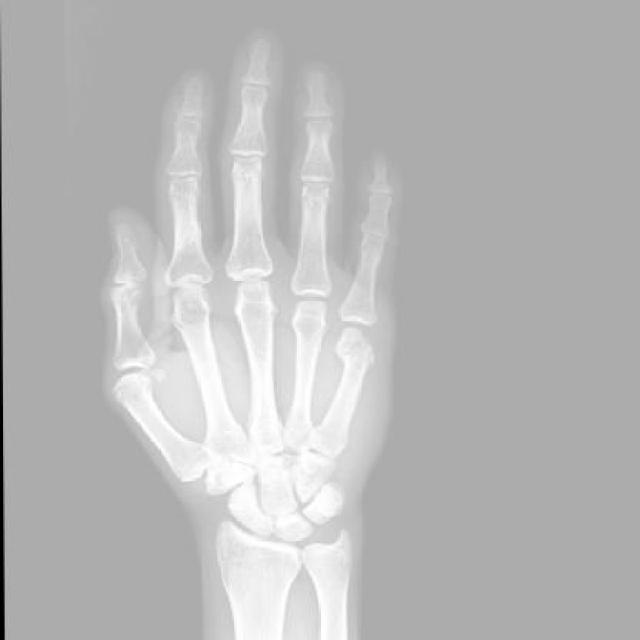Fracture: (334, 334, 371, 376)
